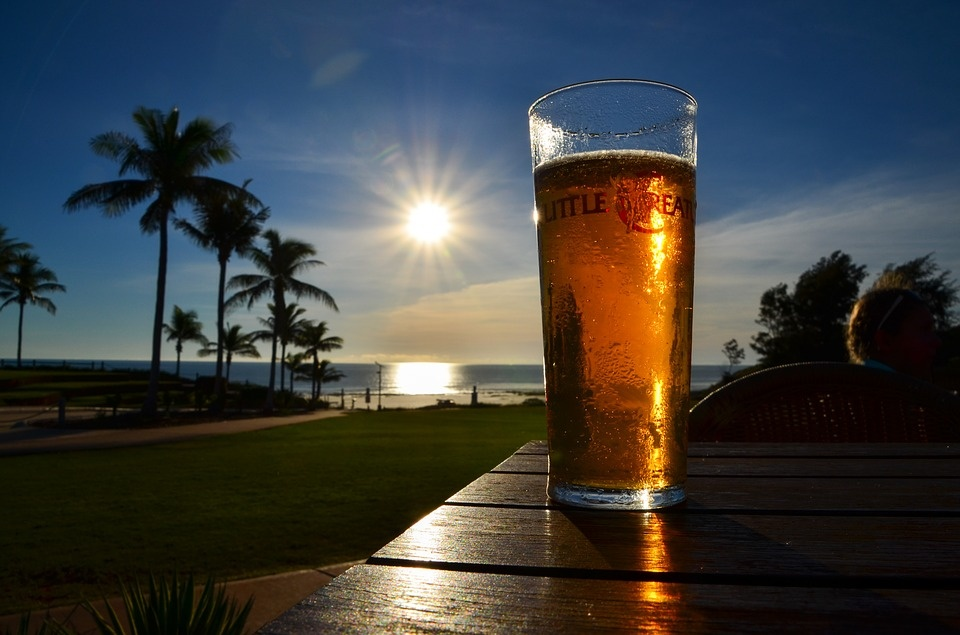glassBeer: (526, 83, 700, 505)
